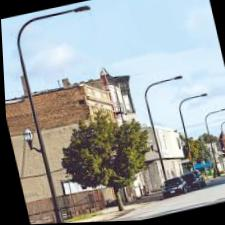Animal: (0, 0, 154, 225), (131, 65, 204, 198), (163, 83, 222, 180), (193, 102, 225, 177), (211, 113, 225, 173)
